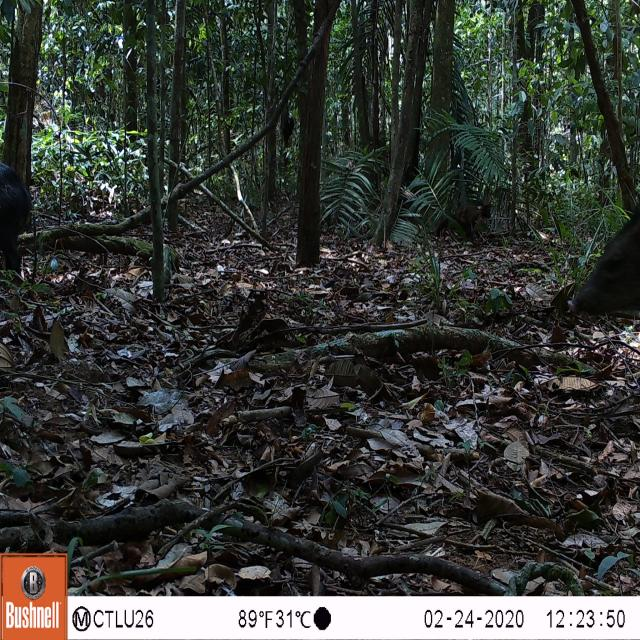Margarita Island Capuchin: (438, 201, 488, 244)
